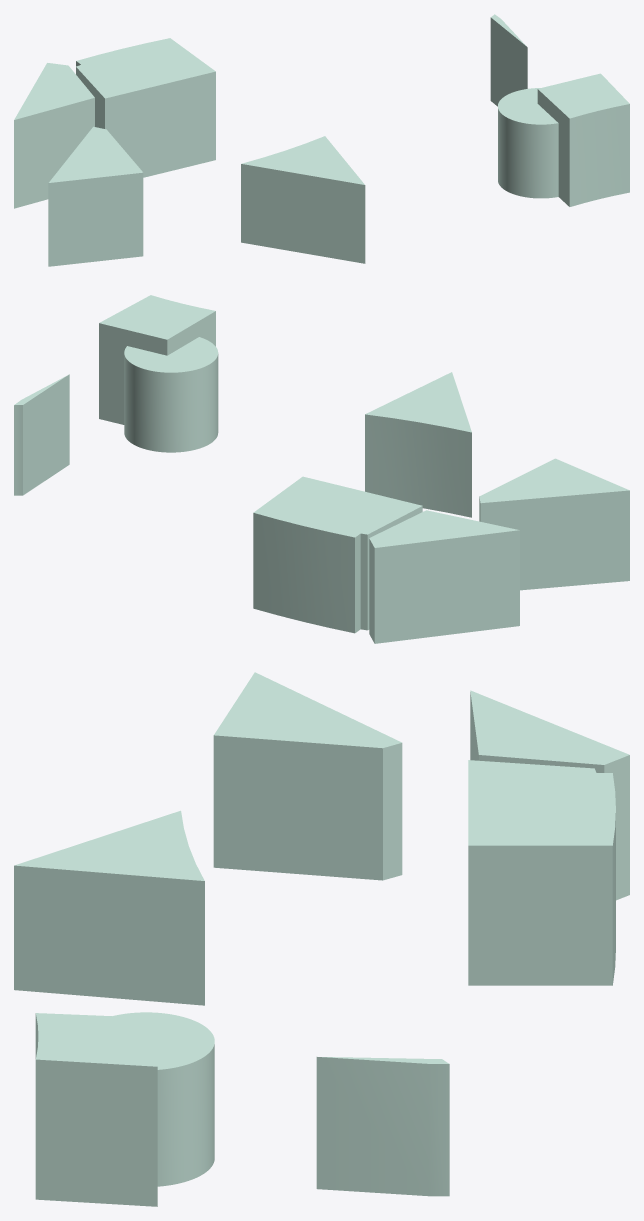
3 views of the same model, one above another, from view 1: azimuth 30°, elevation 25°; view 2: azimuth 150°, elevation 25°; view 3: azimuth 270°, elevation 25° (orthographic). The views are drawn at different scales.
Parts seen in each view (by area): view 1: Renderer Node; view 2: Renderer Node; view 3: Renderer Node.
Part boxes in pixels (bbox=[...]): Renderer Node: bbox=[14, 14, 629, 266]; Renderer Node: bbox=[14, 295, 629, 643]; Renderer Node: bbox=[14, 672, 629, 1206].
Size of the model in its own units: 1.73 by 0.2813 by 1.12.
